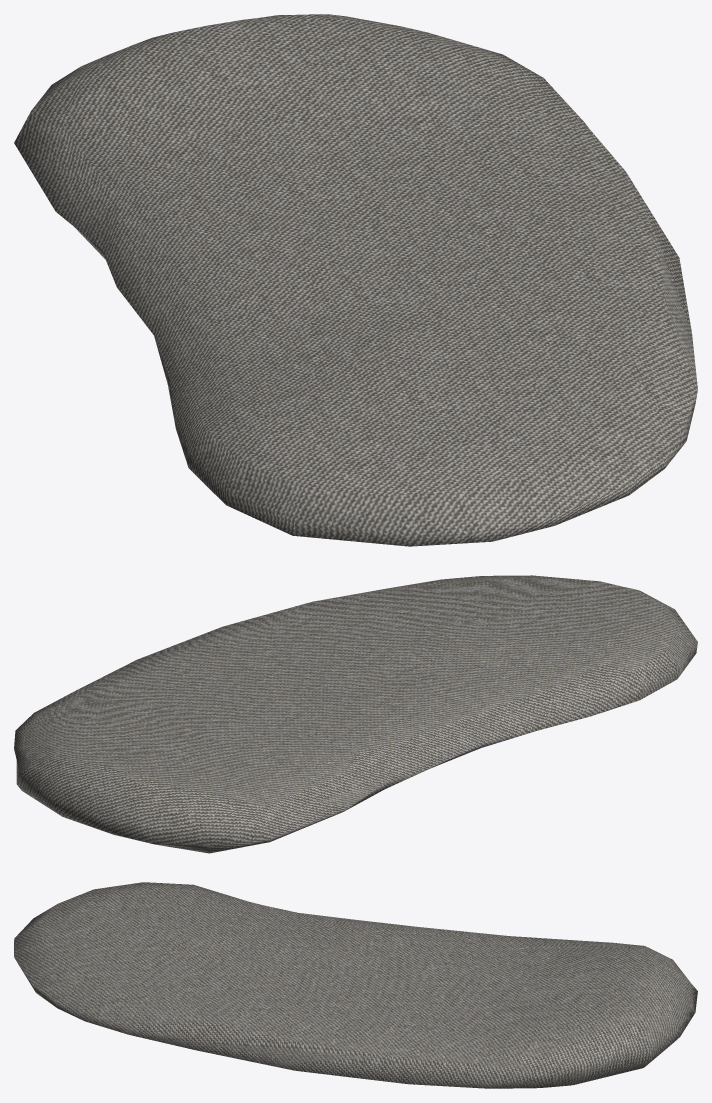
File: shkura 1.fbx
3 views of the same model, one above another, from view 1: azimuth 30°, elevation 25°; view 2: azimuth 150°, elevation 25°; view 3: azimuth 270°, elevation 25° (orthographic). The views are drawn at different scales.
Visible parts, largest first — view 1: shkura; view 2: shkura; view 3: shkura.
Boxes of the visible parts, x1,y1,x2,y2 form: shkura: (14, 14, 697, 546); shkura: (14, 575, 697, 853); shkura: (14, 882, 697, 1088).
Bounding box in the file's own units: 167 × 17.64 × 254.
Materials: 1 (1 with a texture image).
